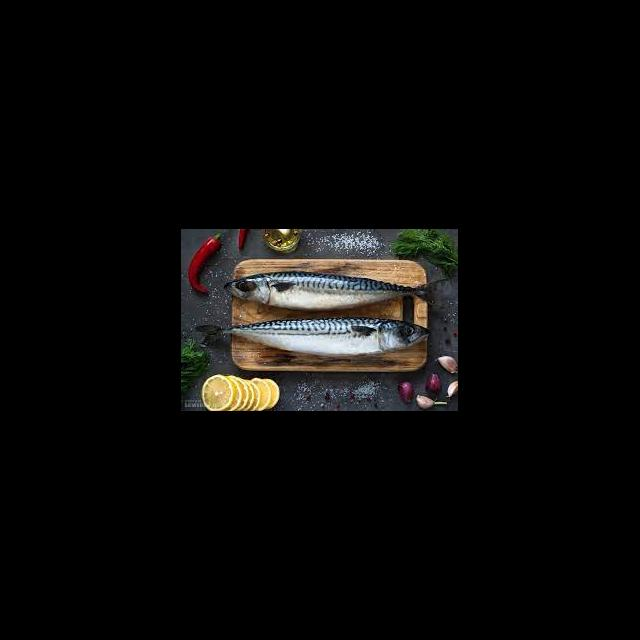fish: (202, 313, 436, 367), (222, 270, 438, 311)
